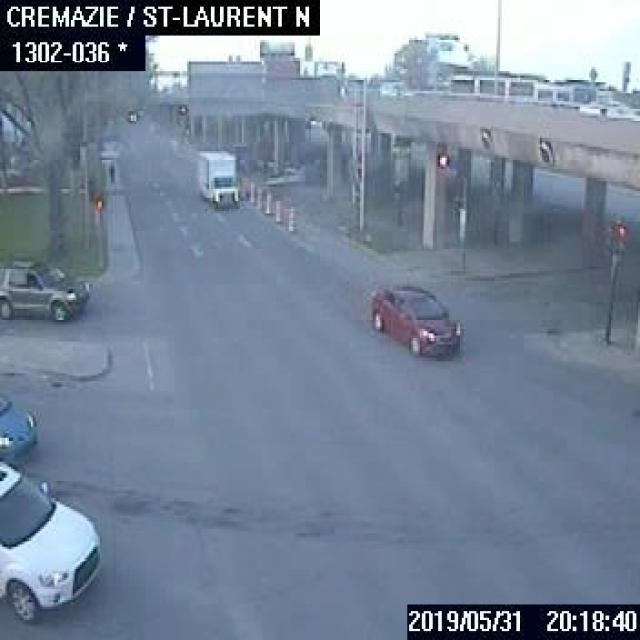construction: (285, 206, 293, 226), (255, 186, 261, 206), (248, 180, 254, 200), (274, 198, 280, 218), (265, 190, 271, 210)
pedestrian: (105, 160, 116, 189)
vehicle: (0, 456, 102, 624), (367, 280, 464, 353), (0, 246, 87, 315), (0, 387, 40, 460), (193, 147, 238, 209)
